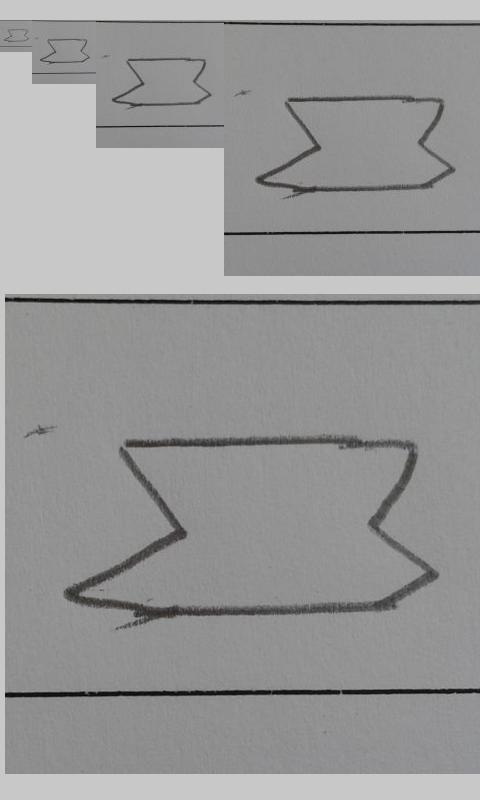edit_text: (61, 433, 442, 623), (255, 96, 455, 193), (113, 58, 211, 106), (40, 39, 91, 64), (3, 29, 29, 42)
